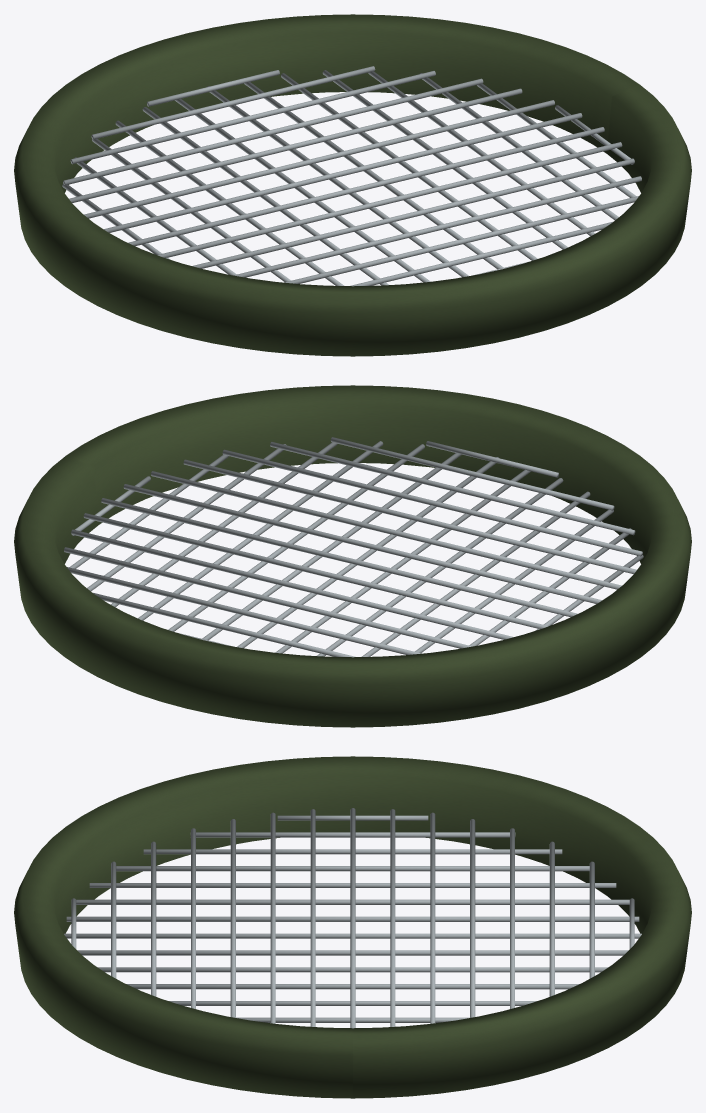
The model's file is classifier.glb.
3 renders of one model, top to bottom at view 1: azimuth 30°, elevation 25°; view 2: azimuth 150°, elevation 25°; view 3: azimuth 270°, elevation 25°, orthographic.
Visible parts, largest first — view 1: classifier polymer rim, classifier crosswire.008, classifier crosswire.007, classifier crosswire.009, classifier crosswire.006, classifier crosswire.010, classifier crosswire.005, classifier crosswire.011, classifier crosswire.004, classifier crosswire.012, classifier crosswire.003, classifier crosswire.013 (+15 smaller); view 2: classifier polymer rim, classifier crosswire.006, classifier crosswire.007, classifier crosswire.005, classifier crosswire.008, classifier crosswire.004, classifier crosswire.009, classifier crosswire.003, classifier crosswire.010, classifier crosswire.002, classifier crosswire.011, classifier crosswire.001 (+15 smaller); view 3: classifier polymer rim, classifier wire.007, classifier wire.006, classifier wire.005, classifier wire.008, classifier wire.009, classifier wire.003, classifier wire.010, classifier wire.004, classifier wire.002, classifier wire.001, classifier wire.011 (+15 smaller).
Part boxes in pixels (x1,y1,x2,y2): classifier polymer rim: [14, 14, 691, 356]; classifier crosswire.008: [104, 113, 582, 232]; classifier crosswire.007: [128, 127, 604, 246]; classifier crosswire.009: [84, 100, 554, 218]; classifier crosswire.006: [157, 142, 622, 257]; classifier crosswire.010: [69, 88, 522, 203]; classifier crosswire.005: [192, 158, 634, 268]; classifier crosswire.011: [63, 78, 483, 185]; classifier crosswire.004: [233, 176, 641, 277]; classifier crosswire.012: [70, 71, 435, 164]; classifier crosswire.003: [284, 196, 638, 283]; classifier crosswire.013: [91, 66, 375, 139]; classifier polymer rim: [14, 385, 691, 727]; classifier crosswire.006: [123, 484, 601, 603]; classifier crosswire.007: [101, 498, 577, 617]; classifier crosswire.005: [151, 471, 621, 589]; classifier crosswire.008: [83, 513, 548, 628]; classifier crosswire.004: [183, 459, 636, 574]; classifier crosswire.009: [71, 529, 513, 639]; classifier crosswire.003: [222, 449, 642, 556]; classifier crosswire.010: [64, 547, 472, 648]; classifier crosswire.002: [270, 442, 635, 535]; classifier crosswire.011: [67, 567, 421, 654]; classifier crosswire.001: [330, 437, 614, 510]; classifier polymer rim: [14, 756, 691, 1098]; classifier wire.007: [64, 933, 641, 938]; classifier wire.006: [66, 916, 639, 921]; classifier wire.005: [76, 899, 629, 904]; classifier wire.008: [77, 950, 628, 955]; classifier wire.009: [98, 967, 607, 972]; classifier wire.003: [116, 866, 589, 871]; classifier wire.010: [126, 984, 579, 989]; classifier wire.004: [89, 883, 616, 887]; classifier wire.002: [143, 849, 562, 854]; classifier wire.001: [190, 832, 515, 837]; classifier wire.011: [169, 1001, 536, 1005].
Bounding box in the file's own units: 0.34 × 0.034 × 0.34.
2 materials, 2 textured.
